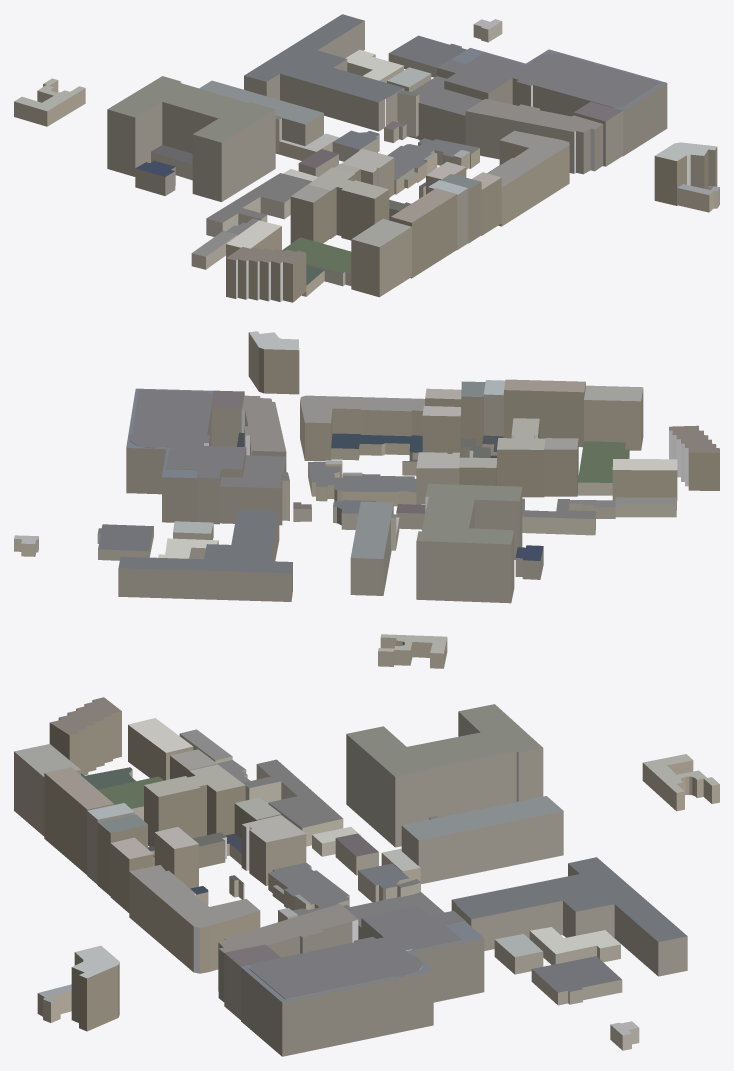
The picture shows the model from 3 angles, top to bottom: view 1: azimuth 30°, elevation 25°; view 2: azimuth 150°, elevation 25°; view 3: azimuth 270°, elevation 25°; orthographic projection. The views are drawn at different scales.
Parts seen in each view (by area): view 1: tuile; view 2: tuile; view 3: tuile.
Boxes of the visible parts, <box> form: tuile: <box>14,14,719,302</box>; tuile: <box>14,331,719,668</box>; tuile: <box>14,697,719,1056</box>.
Size of the model in its own units: 272 by 37.03 by 272.
